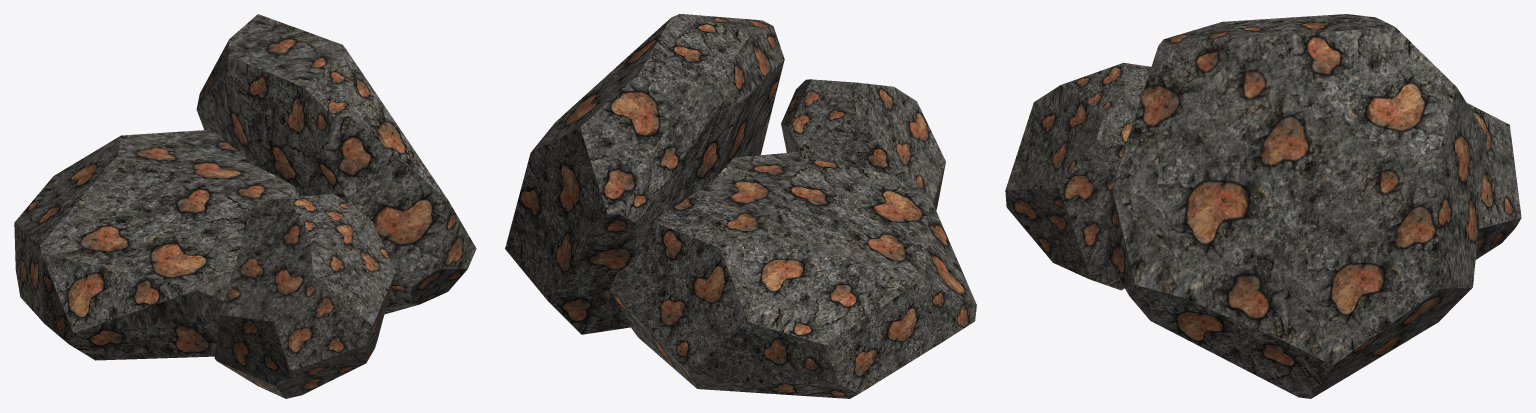
File: iron_ore_2.fbx
3 views of the same model, side by side, from view 1: azimuth 30°, elevation 25°; view 2: azimuth 150°, elevation 25°; view 3: azimuth 270°, elevation 25° (orthographic). The views are drawn at different scales.
Parts seen in each view (by area): view 1: Rock_Type2_02_mesh; view 2: Rock_Type2_02_mesh; view 3: Rock_Type2_02_mesh.
Part boxes in pixels (x1=…): Rock_Type2_02_mesh: x1=14, y1=14, x2=476, y2=398; Rock_Type2_02_mesh: x1=505, y1=14, x2=976, y2=398; Rock_Type2_02_mesh: x1=1005, y1=14, x2=1521, y2=398.
Bounding box in the file's own units: 1.74 × 1.26 × 1.8.
